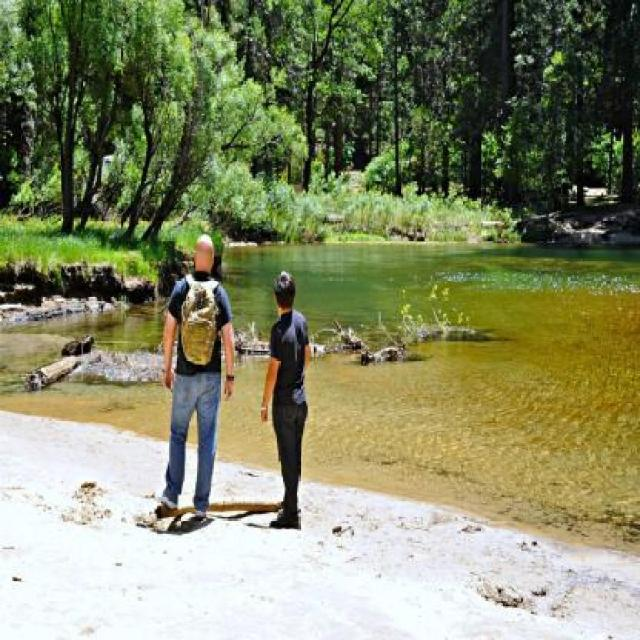backpack: (178, 274, 222, 371)
